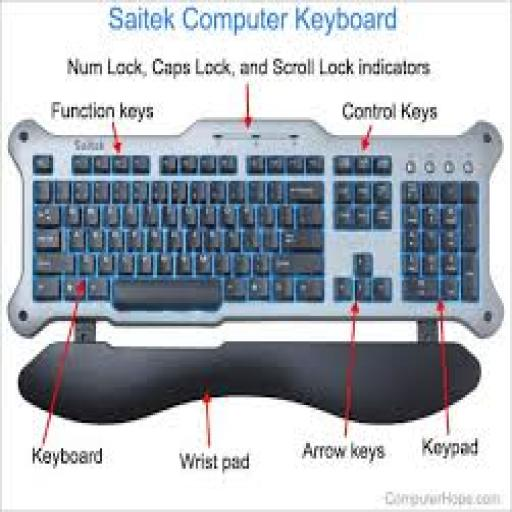KEYBOARD-2: (8, 120, 502, 334)
